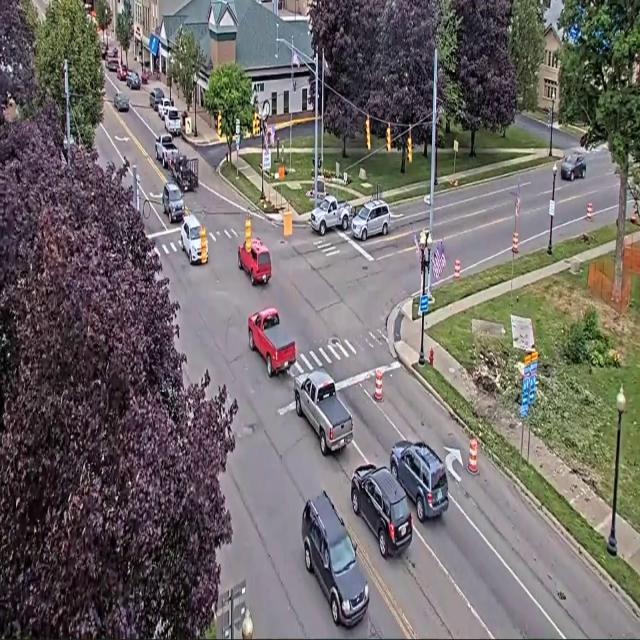car: (302, 491, 369, 627), (351, 464, 412, 557), (390, 440, 448, 522), (351, 200, 390, 240), (238, 238, 271, 285), (180, 214, 202, 264), (162, 182, 184, 222), (561, 154, 586, 180), (157, 97, 173, 119), (150, 88, 164, 111), (126, 70, 142, 90), (114, 92, 129, 111), (117, 64, 128, 81), (107, 58, 119, 71), (101, 44, 109, 60)
traffic signal: (252, 112, 259, 136), (407, 133, 412, 162), (366, 117, 370, 150), (386, 126, 391, 151), (217, 112, 221, 136)
truck: (294, 370, 353, 455), (248, 308, 296, 377), (309, 195, 351, 236), (169, 154, 198, 192), (155, 134, 178, 167), (164, 108, 182, 136)
